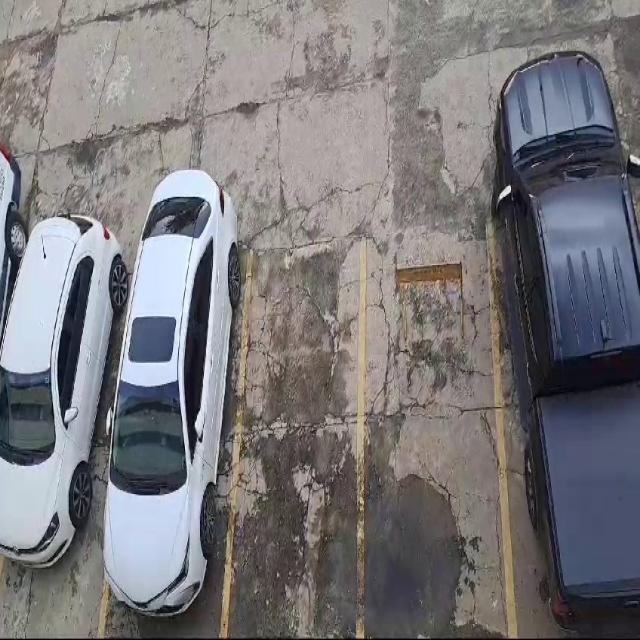empty: (360, 225, 513, 634), (223, 238, 363, 639)
notEmpty: (489, 202, 639, 634), (101, 252, 249, 634), (1, 264, 138, 634)
